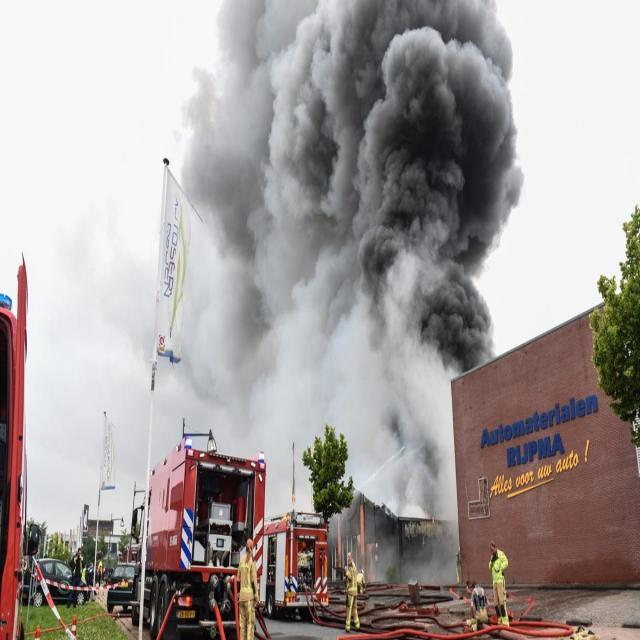Smoke: (98, 0, 524, 587)
